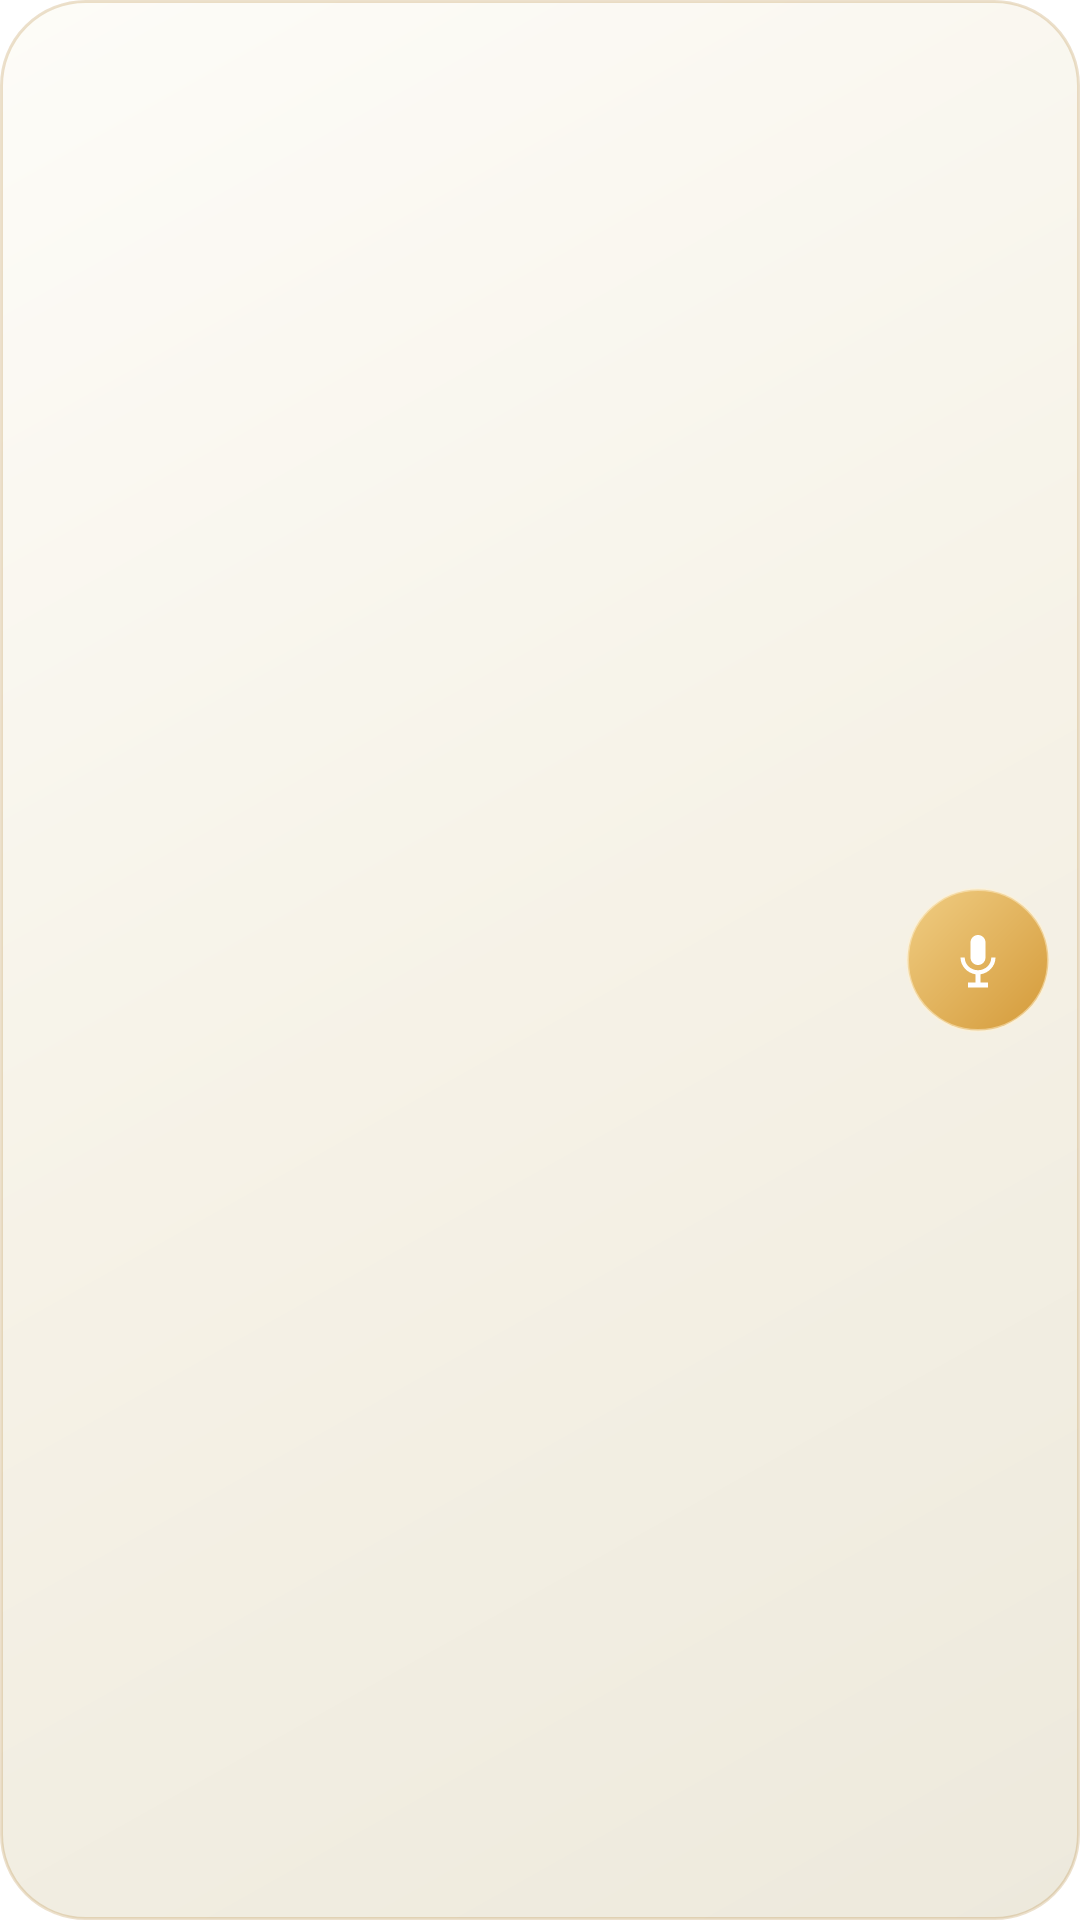

Named icons in this screenshot (1080 × 1920) and their bounding boxes, (x1, y1, x2, y2):
Start phone recording: (907, 889, 1049, 1031)
